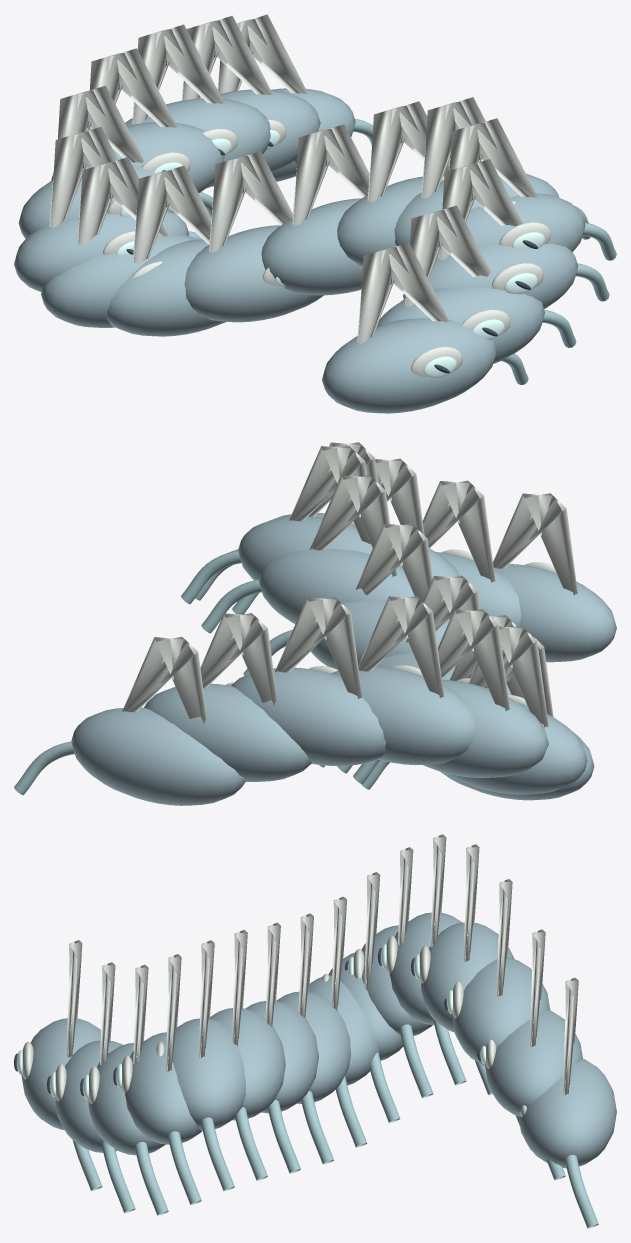
The model's file is bio_ribbon_colony_08_near.glb.
3 views of the same model, one above another, from view 1: azimuth 30°, elevation 25°; view 2: azimuth 150°, elevation 25°; view 3: azimuth 270°, elevation 25° (orthographic). The views are drawn at different scales.
Visible parts, largest first — view 1: Overlapping folded ribbon, Overlapping folded ribbon.007, Overlapping folded ribbon.006, Overlapping folded ribbon.008, Raised pleated edge, Overlapping folded ribbon.009, Overlapping folded ribbon.010, Overlapping folded ribbon.001, Overlapping folded ribbon.002, Raised pleated edge.007, Raised pleated edge.008, Raised pleated edge.006 (+23 smaller); view 2: Overlapping folded ribbon.015, Overlapping folded ribbon.013, Overlapping folded ribbon.012, Overlapping folded ribbon.014, Overlapping folded ribbon, Overlapping folded ribbon.005, Overlapping folded ribbon.011, Raised pleated edge.012, Raised pleated edge, Raised pleated edge.013, Raised pleated edge.001, Raised pleated edge.014 (+21 smaller); view 3: Overlapping folded ribbon.015, Overlapping folded ribbon.004, Overlapping folded ribbon.014, Overlapping folded ribbon.013, Overlapping folded ribbon.003, Overlapping folded ribbon.012, Overlapping folded ribbon.005, Overlapping folded ribbon, Overlapping folded ribbon.006, Overlapping folded ribbon.007, Overlapping folded ribbon.002, Overlapping folded ribbon.001 (+33 smaller).
Part boxes in pixels (bbox=[...]): Overlapping folded ribbon: bbox=[322, 318, 496, 413]; Overlapping folded ribbon.007: bbox=[184, 225, 323, 322]; Overlapping folded ribbon.006: bbox=[261, 198, 362, 295]; Overlapping folded ribbon.008: bbox=[107, 239, 226, 336]; Raised pleated edge: bbox=[357, 242, 462, 377]; Overlapping folded ribbon.009: bbox=[41, 234, 196, 327]; Overlapping folded ribbon.010: bbox=[14, 212, 189, 291]; Overlapping folded ribbon.001: bbox=[377, 287, 544, 363]; Overlapping folded ribbon.002: bbox=[403, 243, 578, 309]; Raised pleated edge.007: bbox=[209, 151, 292, 286]; Raised pleated edge.008: bbox=[133, 165, 211, 263]; Raised pleated edge.006: bbox=[292, 124, 369, 226]; Overlapping folded ribbon.015: bbox=[71, 707, 245, 805]; Overlapping folded ribbon.013: bbox=[231, 667, 386, 765]; Overlapping folded ribbon.012: bbox=[331, 666, 475, 765]; Overlapping folded ribbon.014: bbox=[144, 683, 311, 781]; Overlapping folded ribbon: bbox=[493, 564, 616, 662]; Overlapping folded ribbon.005: bbox=[258, 548, 414, 623]; Overlapping folded ribbon.011: bbox=[423, 679, 548, 777]; Raised pleated edge.012: bbox=[358, 596, 444, 697]; Raised pleated edge: bbox=[493, 493, 577, 595]; Raised pleated edge.013: bbox=[275, 597, 362, 698]; Raised pleated edge.001: bbox=[422, 480, 495, 582]; Raised pleated edge.014: bbox=[200, 613, 277, 705]; Overlapping folded ribbon.015: bbox=[518, 1059, 616, 1168]; Overlapping folded ribbon.004: bbox=[172, 1018, 245, 1130]; Overlapping folded ribbon.014: bbox=[485, 1010, 582, 1116]; Overlapping folded ribbon.013: bbox=[452, 957, 550, 1065]; Overlapping folded ribbon.003: bbox=[124, 1032, 201, 1144]; Overlapping folded ribbon.012: bbox=[421, 922, 514, 1032]; Overlapping folded ribbon.005: bbox=[210, 1008, 285, 1120]; Overlapping folded ribbon: bbox=[21, 1018, 100, 1130]; Overlapping folded ribbon.006: bbox=[245, 1001, 318, 1113]; Overlapping folded ribbon.007: bbox=[276, 991, 350, 1103]; Overlapping folded ribbon.002: bbox=[88, 1043, 165, 1155]; Overlapping folded ribbon.001: bbox=[55, 1040, 122, 1152].
Bounding box in the file's own units: 2.82 × 1.34 × 3.04.
